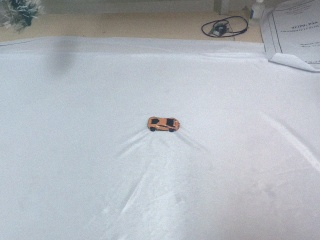toy_car: (147, 117, 180, 132)
